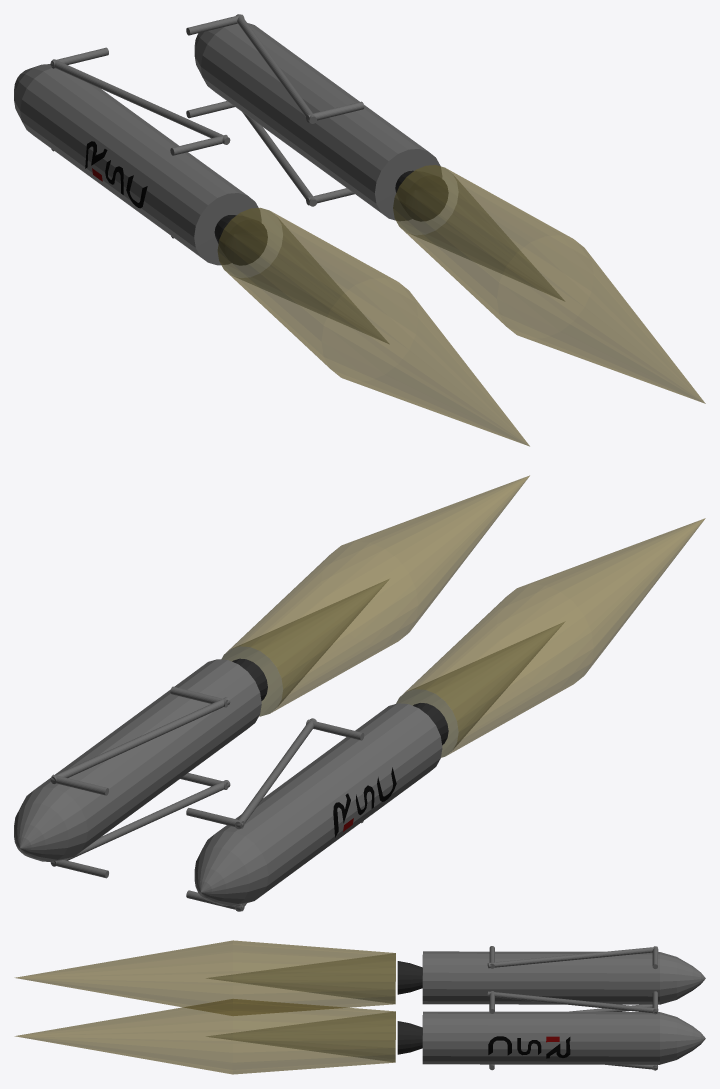
The model's file is H2A-SRB.obj.
The picture shows the model from 3 angles, top to bottom: view 1: azimuth 30°, elevation 25°; view 2: azimuth 150°, elevation 25°; view 3: azimuth 270°, elevation 25°; orthographic projection. The views are drawn at different scales.
Visible parts, largest first — view 1: ShapeIndexedFaceSet.034_ShapeIndexedFaceSet.035, ShapeIndexedFaceSet.027_ShapeIndexedFaceSet.028, ShapeIndexedFaceSet.031_ShapeIndexedFaceSet.032, ShapeIndexedFaceSet.024_ShapeIndexedFaceSet.025, ShapeIndexedFaceSet.035_ShapeIndexedFaceSet.036, ShapeIndexedFaceSet.028_ShapeIndexedFaceSet.029, ShapeIndexedFaceSet.025_ShapeIndexedFaceSet.026, ShapeIndexedFaceSet.032_ShapeIndexedFaceSet.033, ShapeIndexedFaceSet.022_ShapeIndexedFaceSet.023, ShapeIndexedFaceSet.029_ShapeIndexedFaceSet.030, ShapeIndexedFaceSet.023_ShapeIndexedFaceSet.024; view 2: ShapeIndexedFaceSet.027_ShapeIndexedFaceSet.028, ShapeIndexedFaceSet.034_ShapeIndexedFaceSet.035, ShapeIndexedFaceSet.024_ShapeIndexedFaceSet.025, ShapeIndexedFaceSet.031_ShapeIndexedFaceSet.032, ShapeIndexedFaceSet.035_ShapeIndexedFaceSet.036, ShapeIndexedFaceSet.028_ShapeIndexedFaceSet.029, ShapeIndexedFaceSet.022_ShapeIndexedFaceSet.023, ShapeIndexedFaceSet.029_ShapeIndexedFaceSet.030, ShapeIndexedFaceSet.023_ShapeIndexedFaceSet.024; view 3: ShapeIndexedFaceSet.034_ShapeIndexedFaceSet.035, ShapeIndexedFaceSet.027_ShapeIndexedFaceSet.028, ShapeIndexedFaceSet.031_ShapeIndexedFaceSet.032, ShapeIndexedFaceSet.024_ShapeIndexedFaceSet.025, ShapeIndexedFaceSet.028_ShapeIndexedFaceSet.029, ShapeIndexedFaceSet.035_ShapeIndexedFaceSet.036, ShapeIndexedFaceSet.029_ShapeIndexedFaceSet.030, ShapeIndexedFaceSet.022_ShapeIndexedFaceSet.023, ShapeIndexedFaceSet.025_ShapeIndexedFaceSet.026, ShapeIndexedFaceSet.032_ShapeIndexedFaceSet.033, ShapeIndexedFaceSet.030_ShapeIndexedFaceSet.031.
Part boxes in pixels (box(x1,y1,x2,y2)): ShapeIndexedFaceSet.034_ShapeIndexedFaceSet.035: box(393, 165, 705, 403); ShapeIndexedFaceSet.027_ShapeIndexedFaceSet.028: box(218, 208, 529, 446); ShapeIndexedFaceSet.031_ShapeIndexedFaceSet.032: box(186, 14, 441, 220); ShapeIndexedFaceSet.024_ShapeIndexedFaceSet.025: box(14, 47, 260, 265); ShapeIndexedFaceSet.035_ShapeIndexedFaceSet.036: box(393, 165, 564, 301); ShapeIndexedFaceSet.028_ShapeIndexedFaceSet.029: box(218, 208, 388, 343); ShapeIndexedFaceSet.025_ShapeIndexedFaceSet.026: box(214, 215, 267, 264); ShapeIndexedFaceSet.032_ShapeIndexedFaceSet.033: box(395, 170, 447, 220); ShapeIndexedFaceSet.022_ShapeIndexedFaceSet.023: box(236, 14, 316, 206); ShapeIndexedFaceSet.029_ShapeIndexedFaceSet.030: box(50, 59, 230, 148); ShapeIndexedFaceSet.023_ShapeIndexedFaceSet.024: box(85, 141, 147, 208); ShapeIndexedFaceSet.027_ShapeIndexedFaceSet.028: box(399, 518, 705, 756); ShapeIndexedFaceSet.034_ShapeIndexedFaceSet.035: box(224, 475, 529, 713); ShapeIndexedFaceSet.024_ShapeIndexedFaceSet.025: box(186, 703, 442, 911); ShapeIndexedFaceSet.031_ShapeIndexedFaceSet.032: box(14, 659, 261, 878); ShapeIndexedFaceSet.035_ShapeIndexedFaceSet.036: box(221, 579, 388, 716); ShapeIndexedFaceSet.028_ShapeIndexedFaceSet.029: box(396, 622, 564, 757); ShapeIndexedFaceSet.022_ShapeIndexedFaceSet.023: box(50, 697, 230, 866); ShapeIndexedFaceSet.029_ShapeIndexedFaceSet.030: box(235, 718, 316, 911); ShapeIndexedFaceSet.023_ShapeIndexedFaceSet.024: box(333, 767, 396, 837); ShapeIndexedFaceSet.034_ShapeIndexedFaceSet.035: box(15, 999, 395, 1074); ShapeIndexedFaceSet.027_ShapeIndexedFaceSet.028: box(15, 940, 395, 1015); ShapeIndexedFaceSet.031_ShapeIndexedFaceSet.032: box(422, 991, 705, 1070); ShapeIndexedFaceSet.024_ShapeIndexedFaceSet.025: box(422, 946, 705, 1011); ShapeIndexedFaceSet.028_ShapeIndexedFaceSet.029: box(206, 953, 395, 1003); ShapeIndexedFaceSet.035_ShapeIndexedFaceSet.036: box(206, 1011, 395, 1062); ShapeIndexedFaceSet.029_ShapeIndexedFaceSet.030: box(487, 946, 658, 1011); ShapeIndexedFaceSet.022_ShapeIndexedFaceSet.023: box(487, 991, 658, 1069); ShapeIndexedFaceSet.025_ShapeIndexedFaceSet.026: box(397, 961, 422, 994); ShapeIndexedFaceSet.032_ShapeIndexedFaceSet.033: box(397, 1021, 422, 1054); ShapeIndexedFaceSet.030_ShapeIndexedFaceSet.031: box(488, 1036, 570, 1058).
Size of the model in its own units: 7.61 by 2.71 by 24.56.
